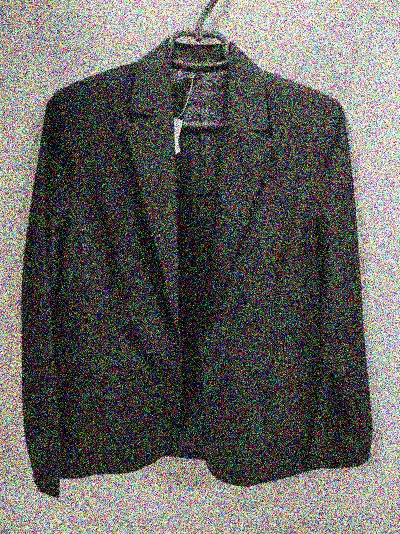Blazer: (5, 36, 393, 497)
